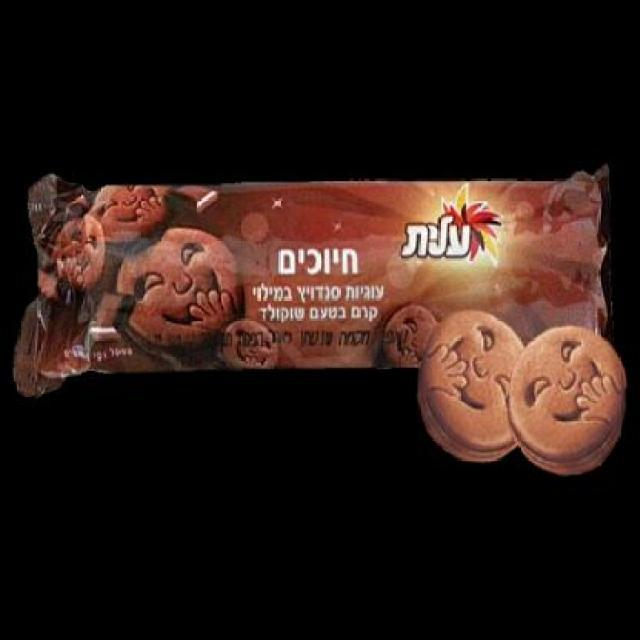Cookie: (26, 176, 608, 369), (410, 318, 626, 467)
